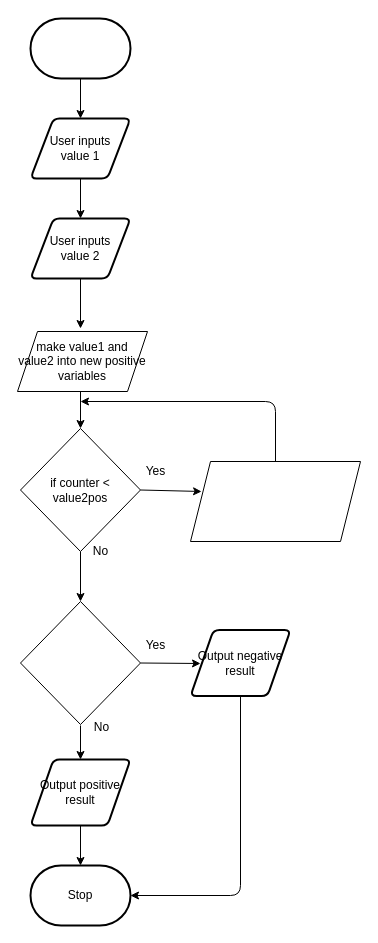
Image size: 378x943. Some labels were removed from this diagram. The shapes that lost their labels are listed below. From the top down, each one's centre as x and y in pixels, then its label:
At point 80,48: "Start".
At point 275,501: "result = result + value1pos counter = counter + 1".
At point 80,662: "if one input is negative".
